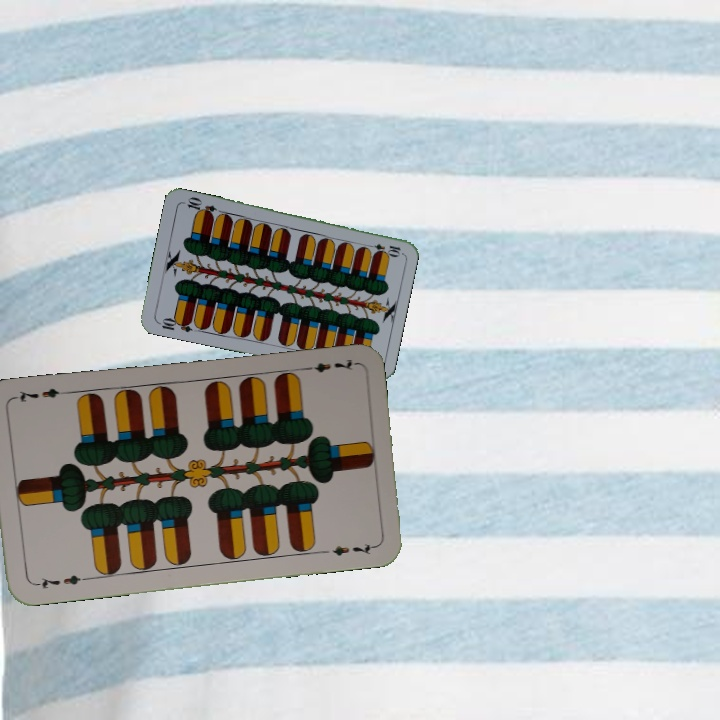E10: (154, 313, 194, 335), (362, 239, 403, 257)
E7: (31, 570, 90, 592), (298, 355, 358, 375)
